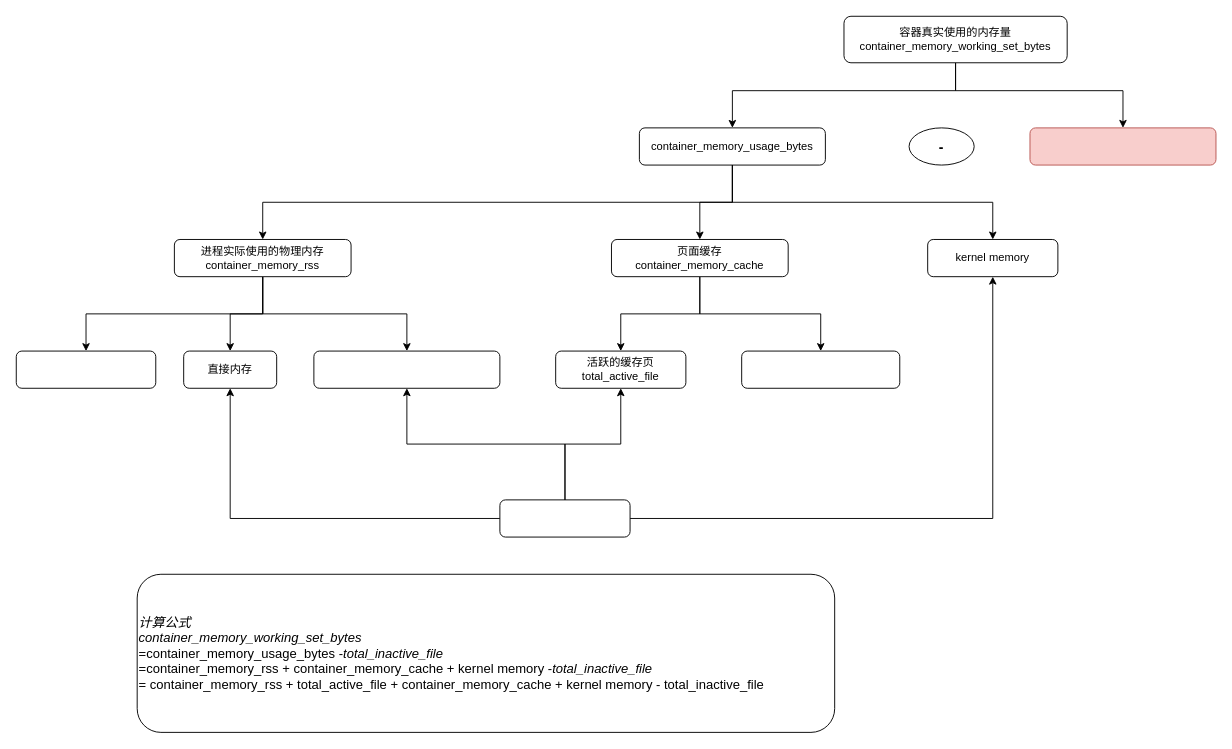
Some shapes in this 1232 by 749 pixel diagram are drawn without their labels. Here are the shapes that lost their labels. From the top down, the box of each, then its label:
(1029, 127, 1216, 165): 不活跃的缓存页 total_inactive_file
(15, 350, 156, 388): JVM内存（堆栈元空间）
(313, 350, 500, 388): 其他（文件描述符，GC 消耗等等）
(741, 350, 900, 388): 不活跃的缓存页 container_memory_cache
(499, 499, 630, 537): 预留内存
